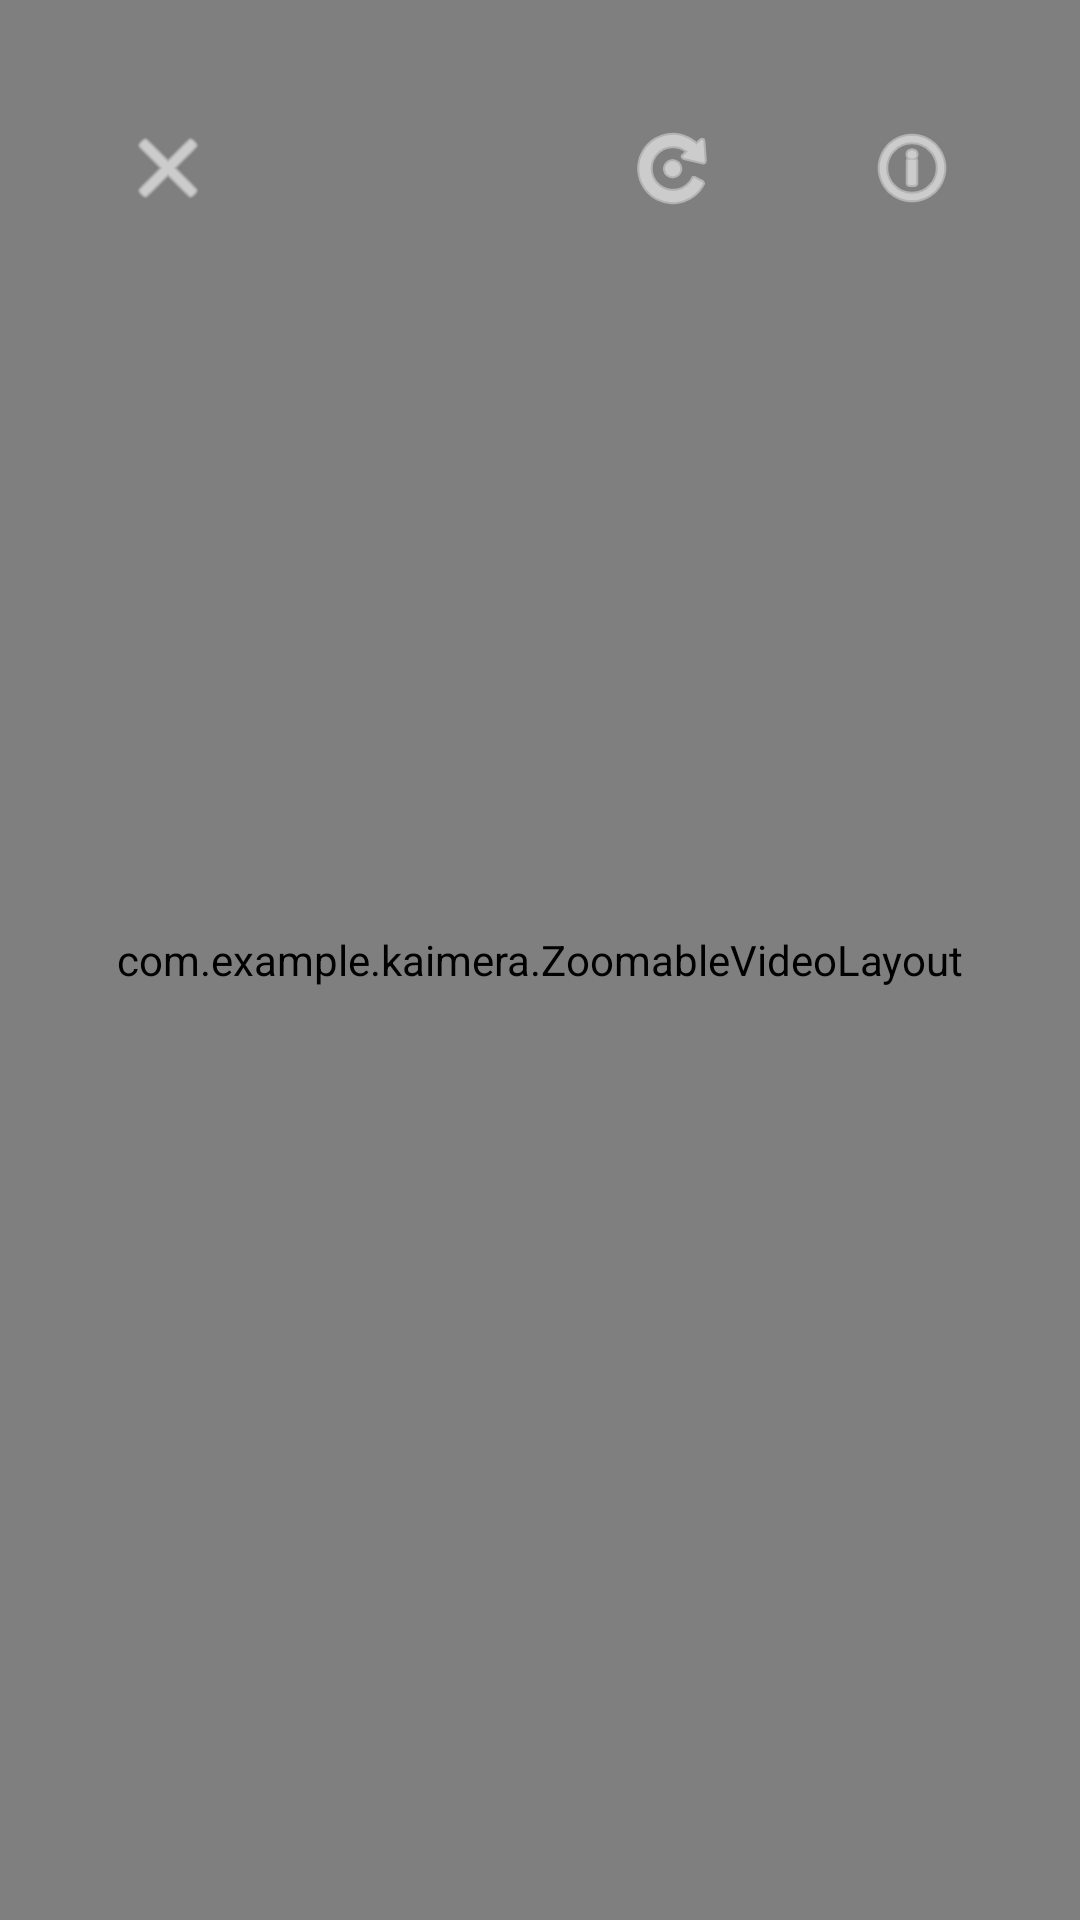

Locate icon controls on the screen. Image size 1080 × 1920, boxes as (x1, y1, x2, y2).
close clear cancel: (138, 138, 198, 198)
info details: (878, 134, 946, 202)
rotate: (637, 133, 707, 204)
